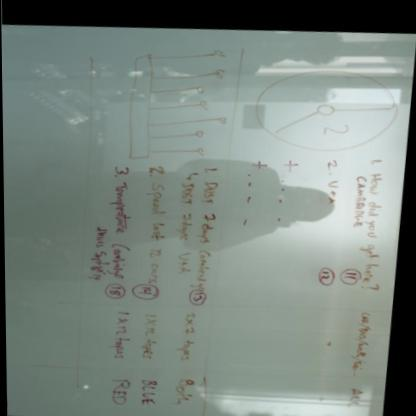Handwritten text: (81, 171, 132, 283), (360, 161, 383, 281), (140, 175, 170, 246), (192, 217, 219, 288), (346, 164, 367, 230), (168, 370, 197, 412), (103, 371, 131, 411), (135, 366, 162, 407), (200, 171, 221, 205), (142, 259, 161, 283), (178, 178, 197, 200)
Whiteboard: (0, 24, 414, 416)
